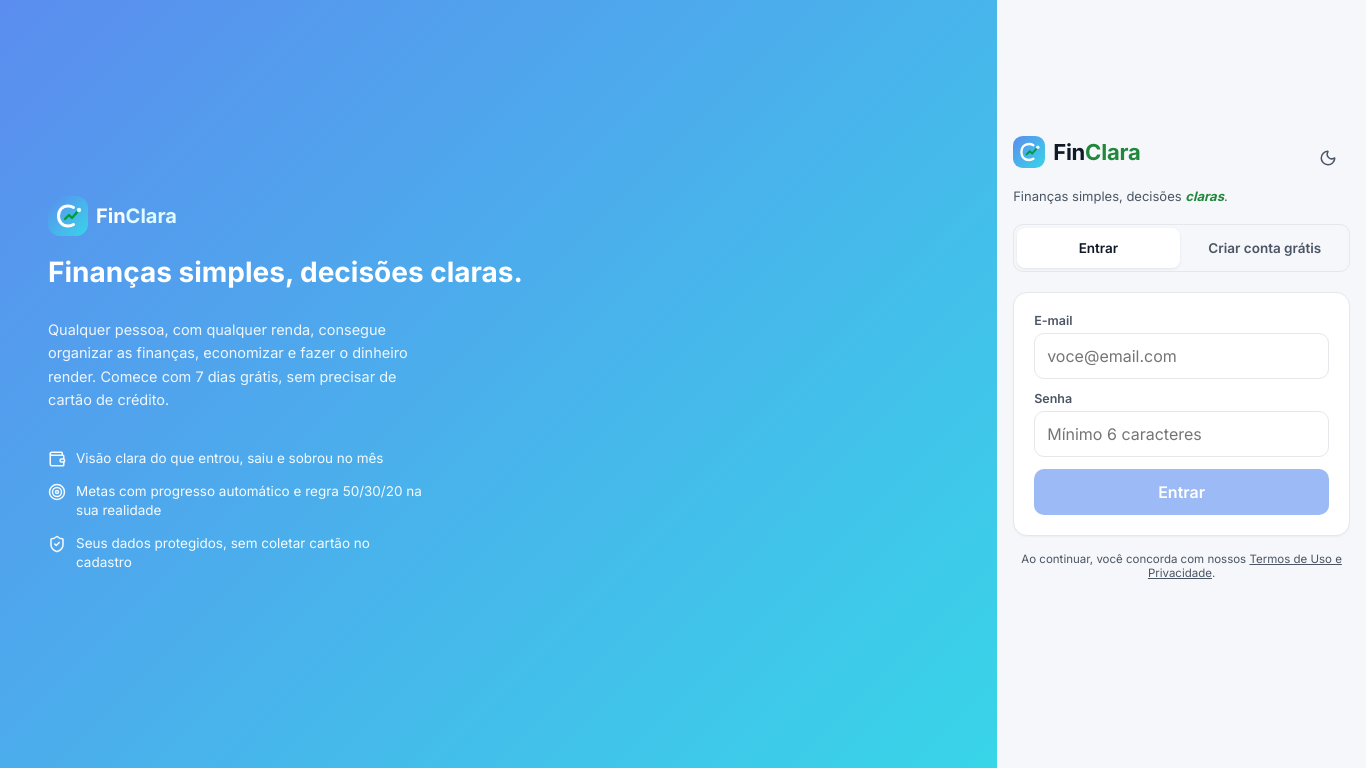
Test: Landing pública e autenticação › mostra erro claro para credenciais inválidas
This screenshot has width=1366, height=768.
Type "naoexiste-cypress@finclara.invalido" into the field with id "email".
click(1182, 356); type("naoexiste-cypress@finclara.invalido")  # box [1034,333,1329,379]
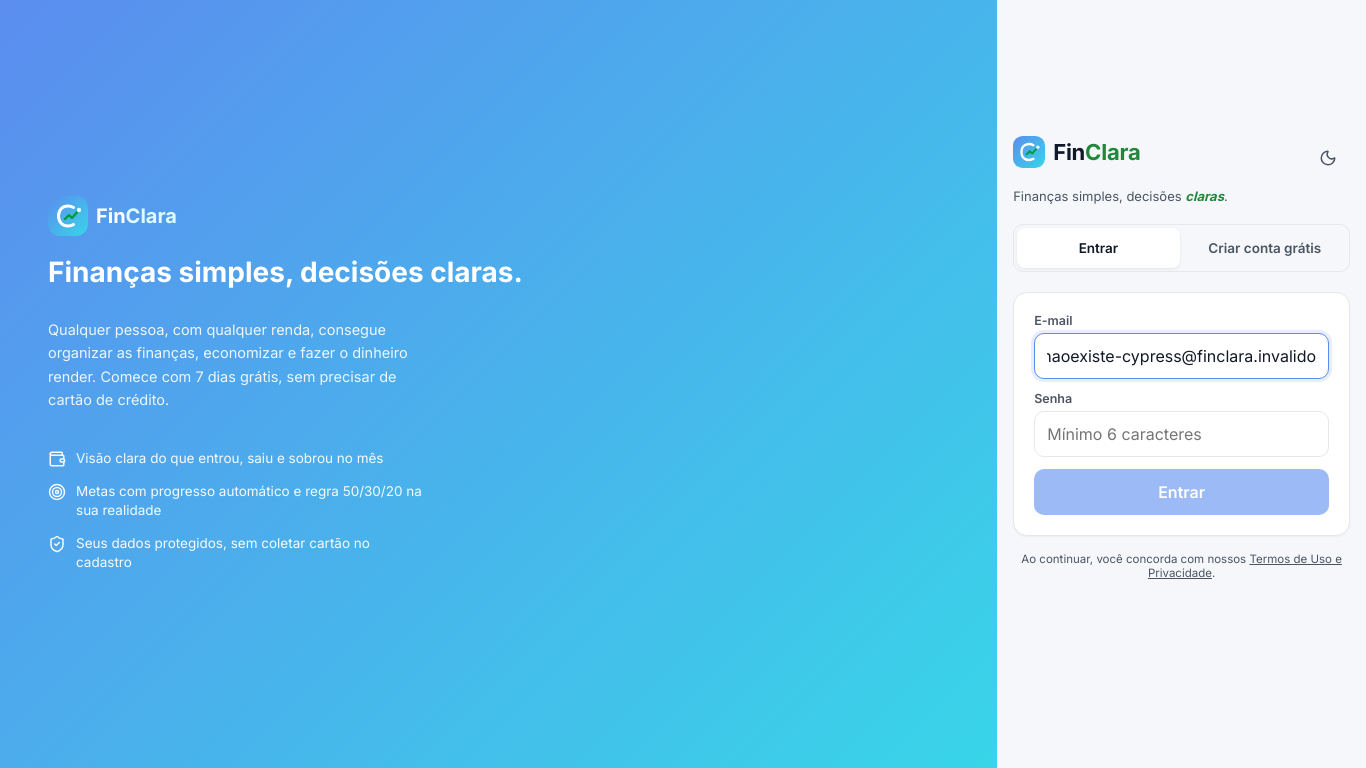
Type "senha-errada-123" into the password field with id "senha".
click(1182, 434); type("senha-errada-123")  # box [1034,411,1329,457]
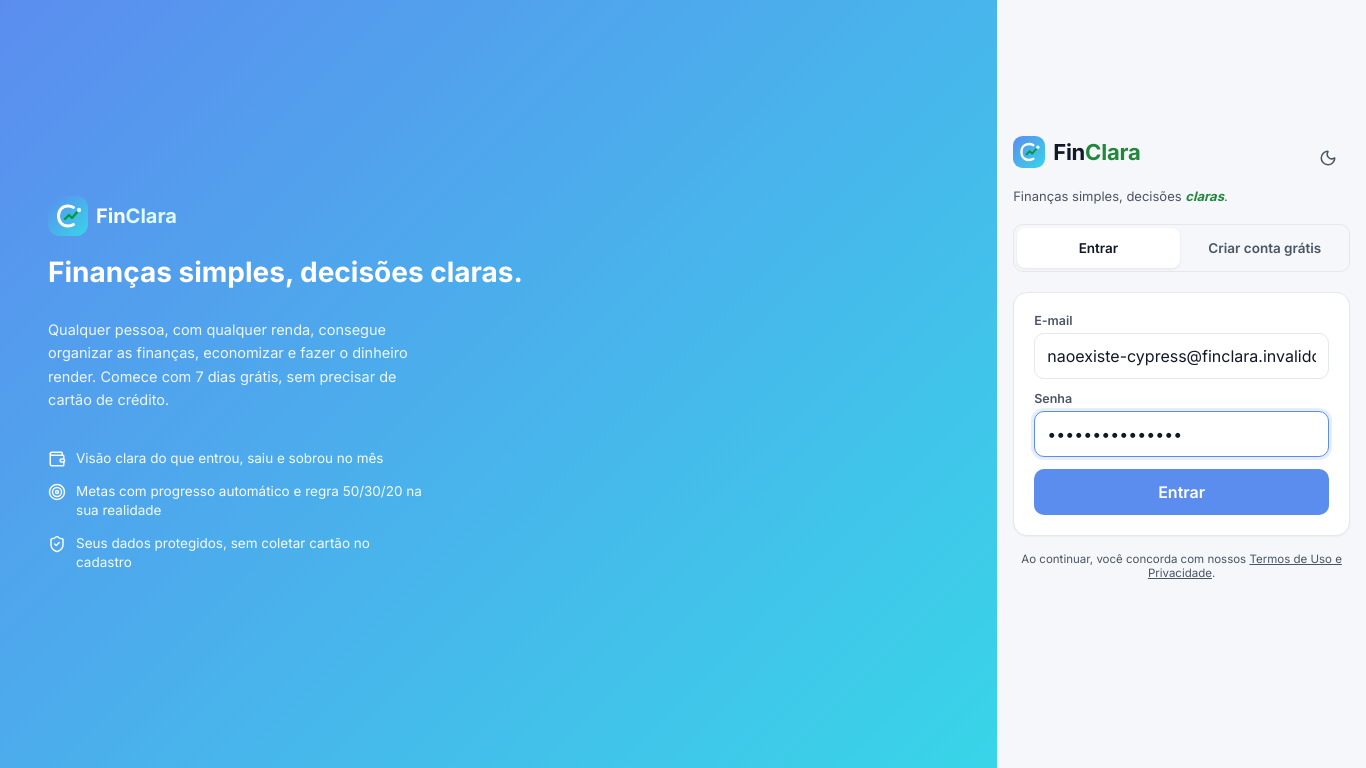
Click the submit button.
click(1182, 492)  # box [1034,469,1329,515]
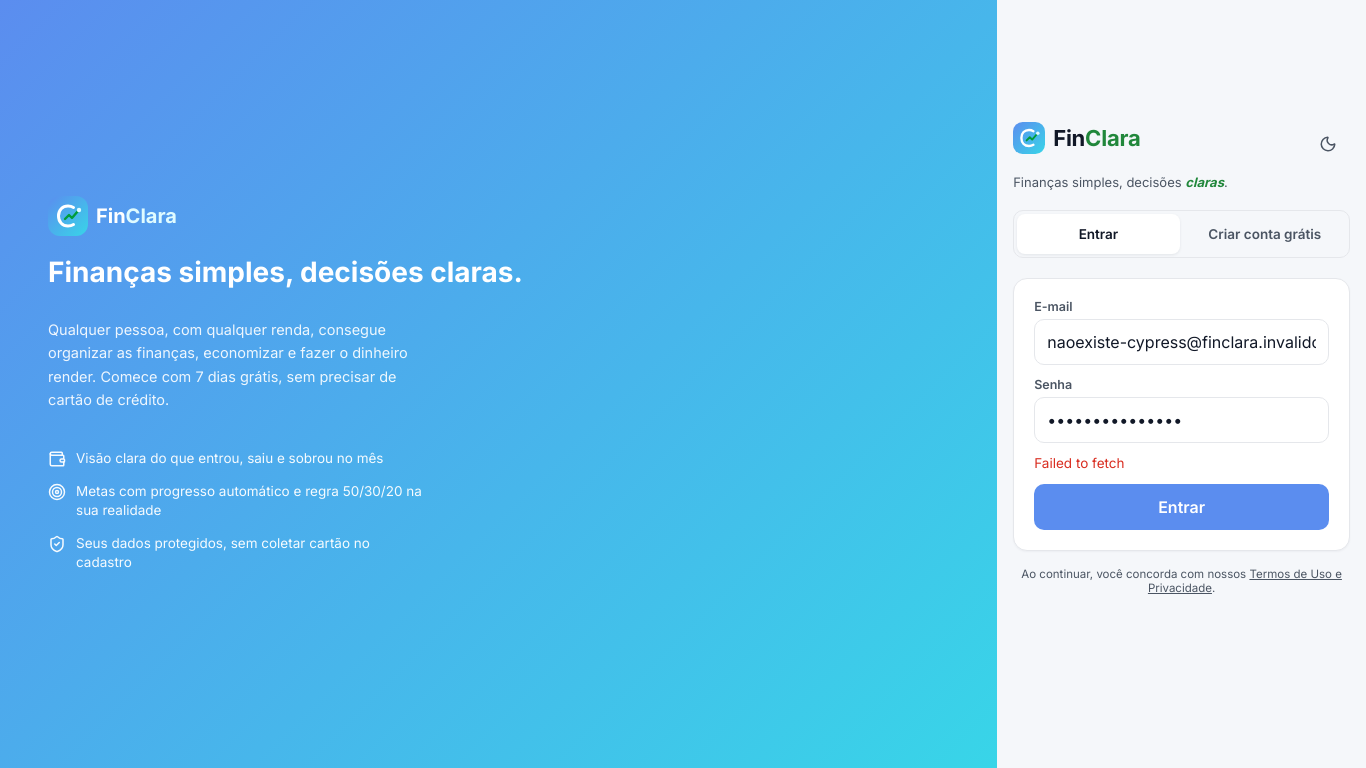
Result: the message is shown at [1034,455,1124,471]
